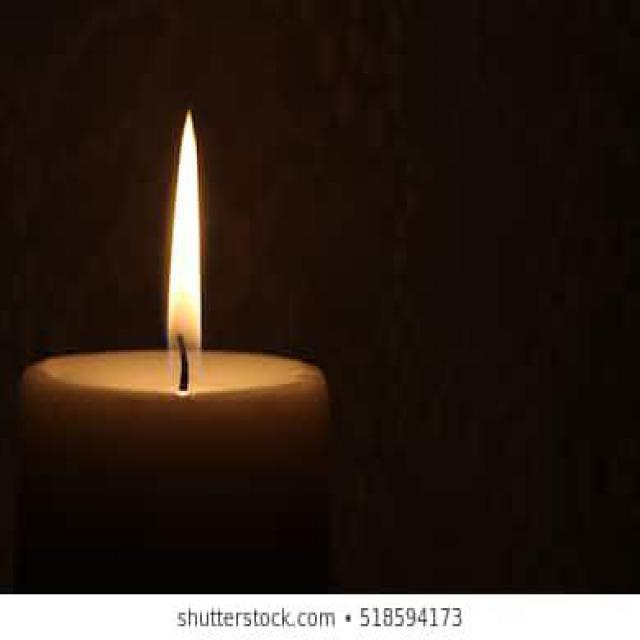Fire: (168, 107, 201, 366)
